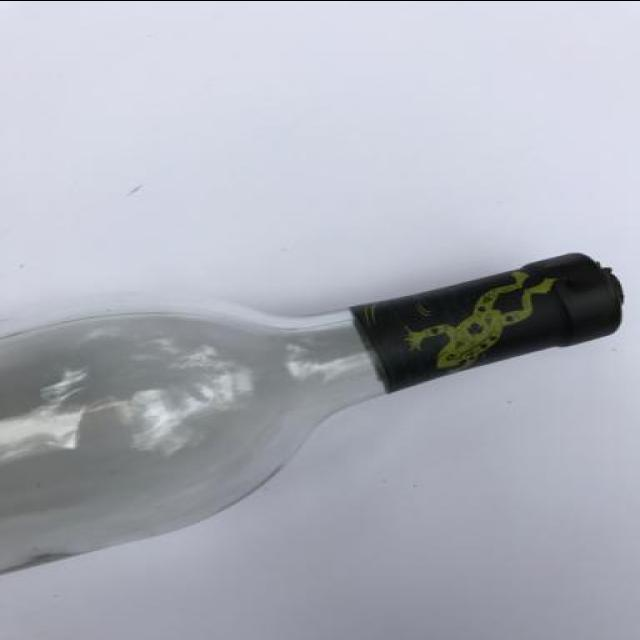glass: (0, 248, 622, 570)
